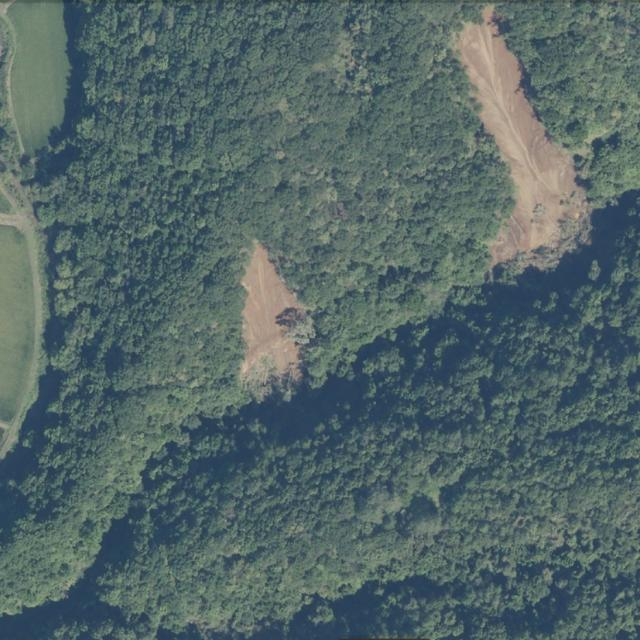landslide: (458, 5, 591, 273), (240, 242, 313, 398)
